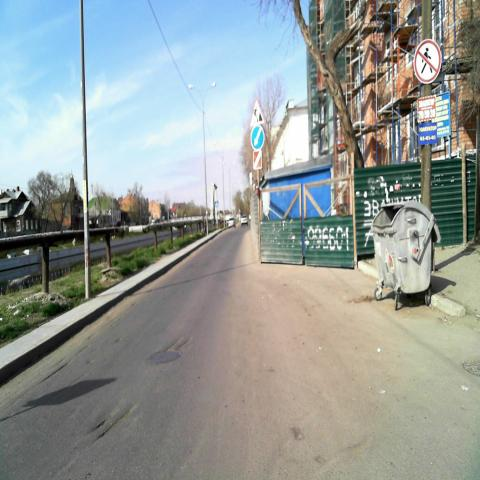3_10: (415, 37, 442, 86)
